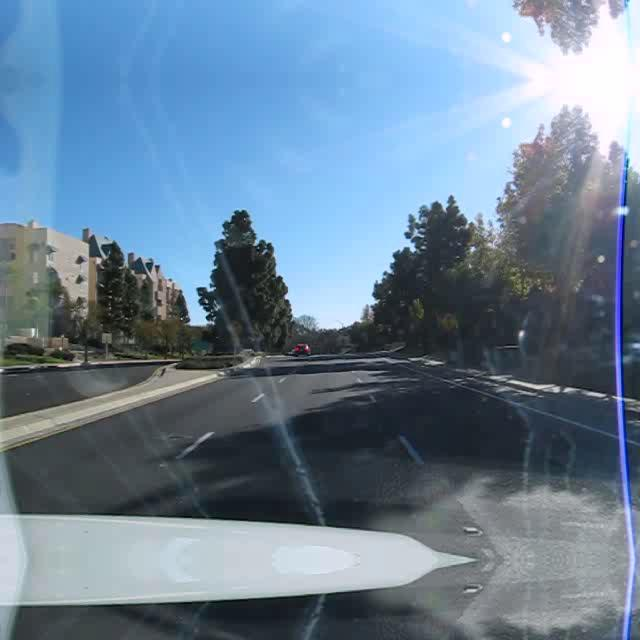signalAhead: (438, 312, 458, 331), (225, 320, 245, 338)
